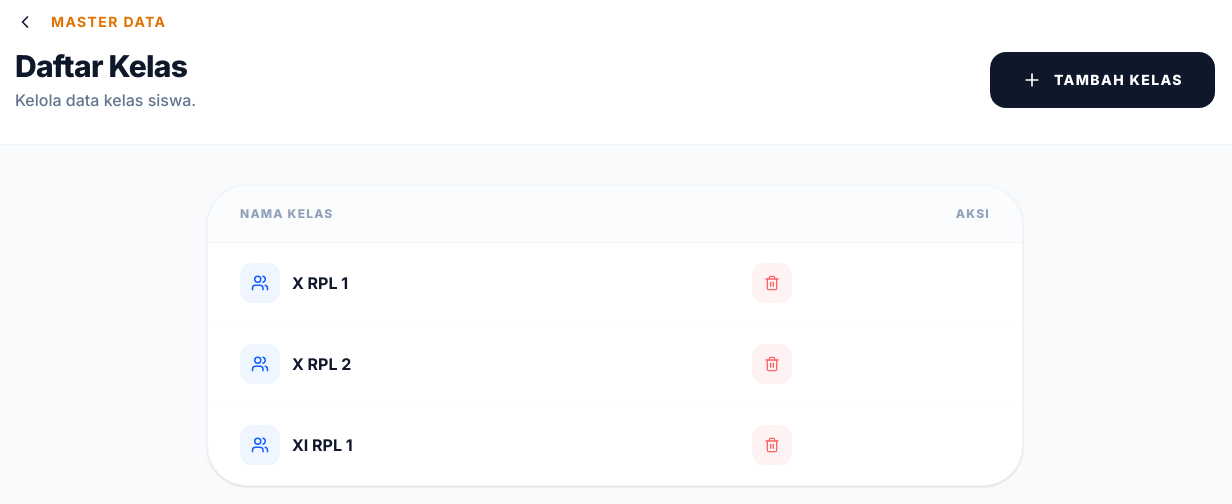
Test: ClassesClient › deletes class with confirmation
Expected: the text "X RPL 1" is shown, 208,242 -> 1022,324
Click the button without text in the row of "X RPL 1". click: point(772, 283)
box: 752,263 -> 792,303
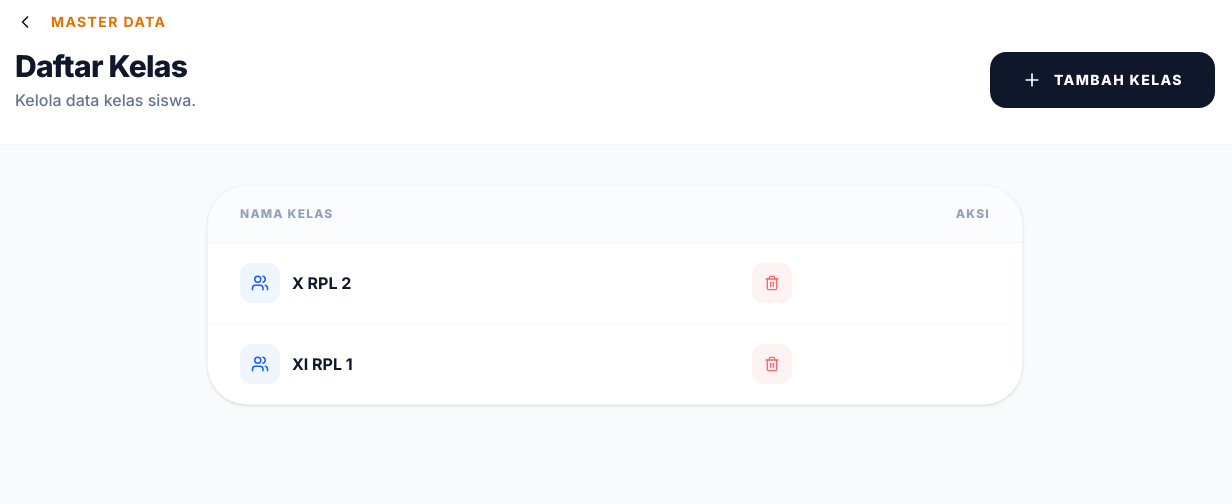
Expected: the text "X RPL 1" is gone
